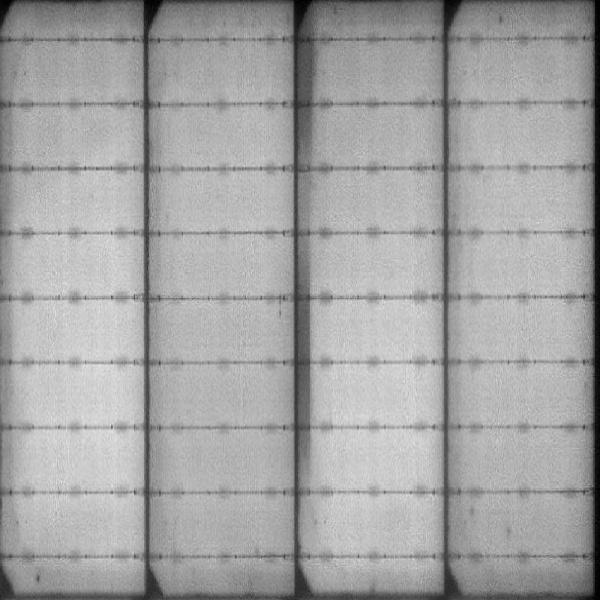black_border: (292, 25, 315, 460)
